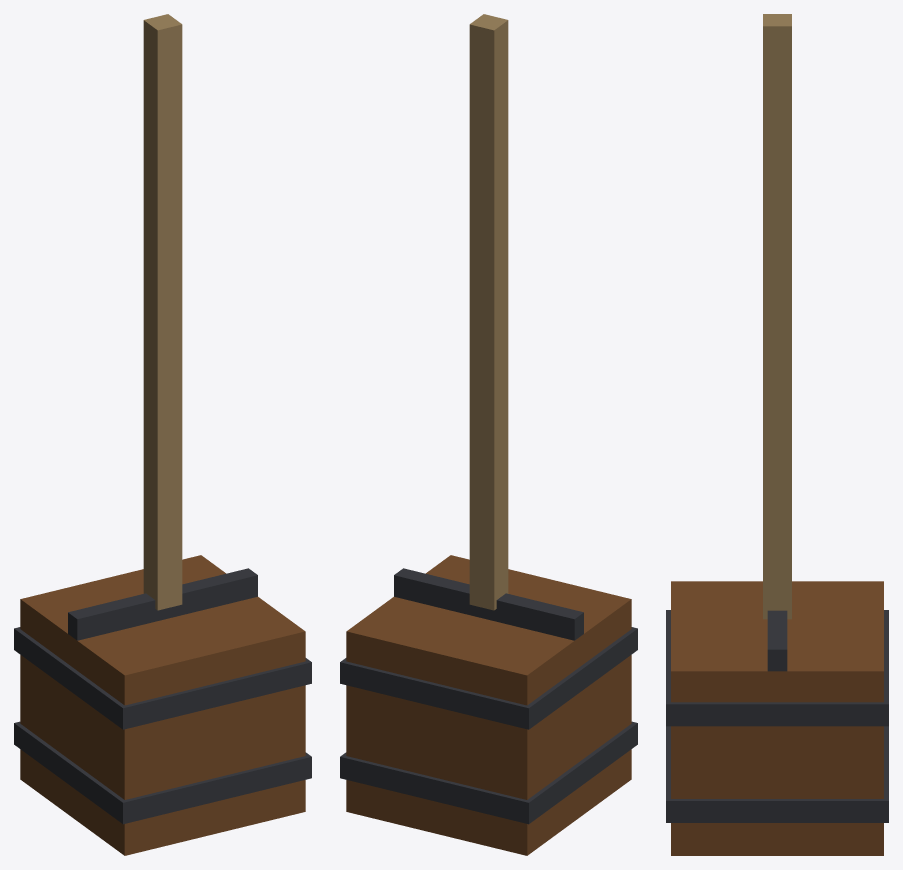
Rendered from xma-hanging-bucket.glb.
3 views of the same model, side by side, from view 1: azimuth 30°, elevation 25°; view 2: azimuth 150°, elevation 25°; view 3: azimuth 270°, elevation 25° (orthographic). The views are drawn at different scales.
Parts seen in each view (by area): view 1: box-prop; view 2: box-prop; view 3: box-prop.
Part boxes in pixels (x1,y1,x2,y2): box-prop: (14, 14, 311, 855); box-prop: (340, 14, 637, 855); box-prop: (666, 14, 888, 855).
Bounding box in the file's own units: 0.46 × 1.8 × 0.46.
